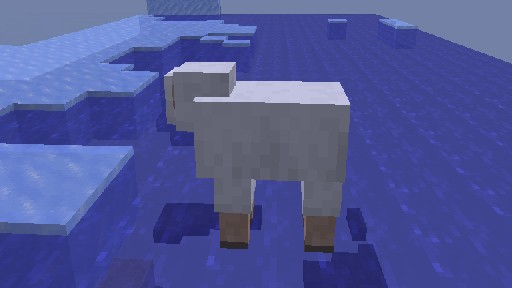sheep: (163, 60, 351, 253)
